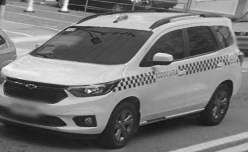car: (1, 12, 243, 144)
